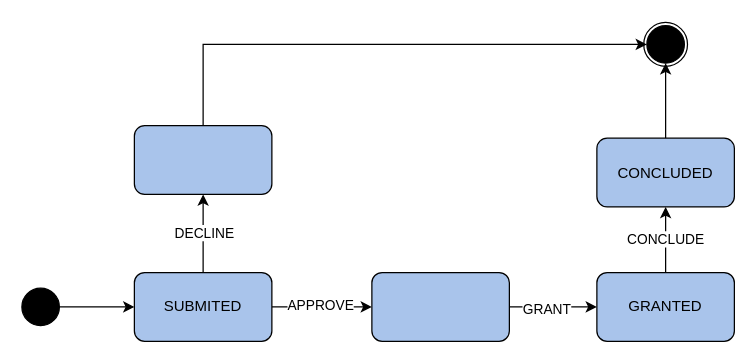
The diagram is 756 pixels wide and 363 high, and some of its shapes have lost their labels. Here are the shapes that lost their labels. From the top down, the box of each, then its label:
(133, 124, 272, 194): DECLINED
(371, 271, 509, 341): APPROVED
